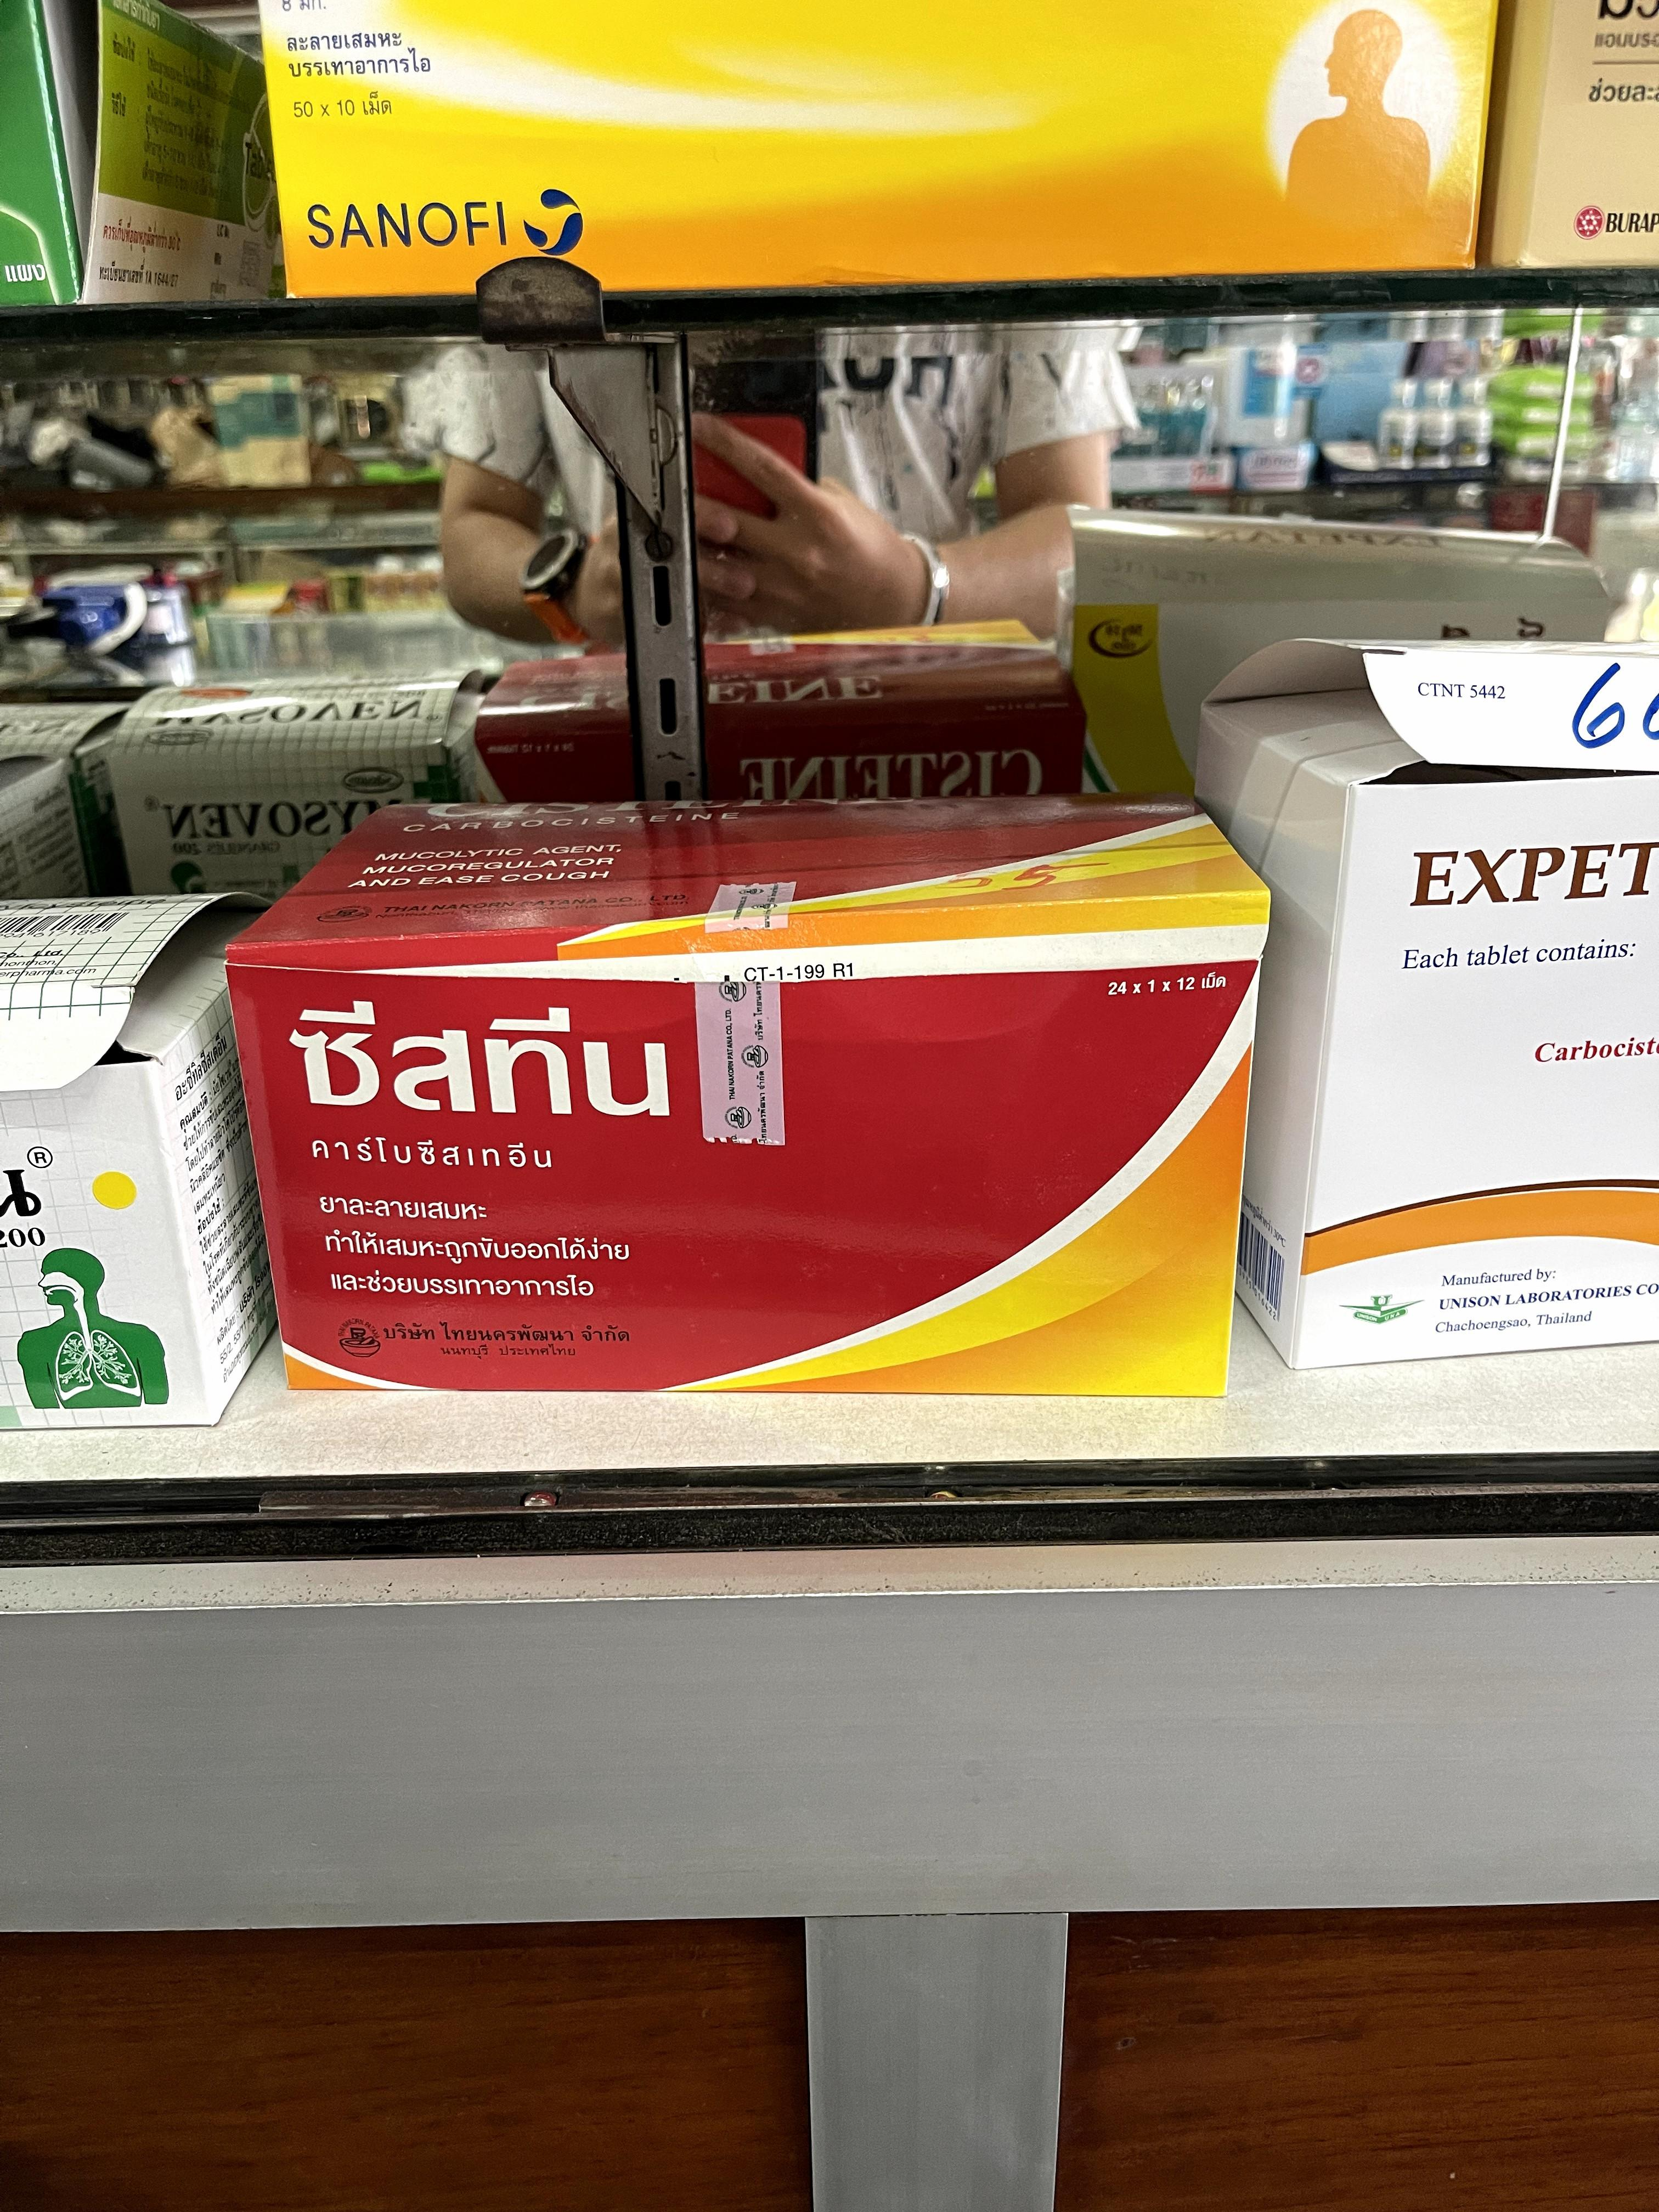Cisteine_Box: (230, 801, 1262, 1397)
